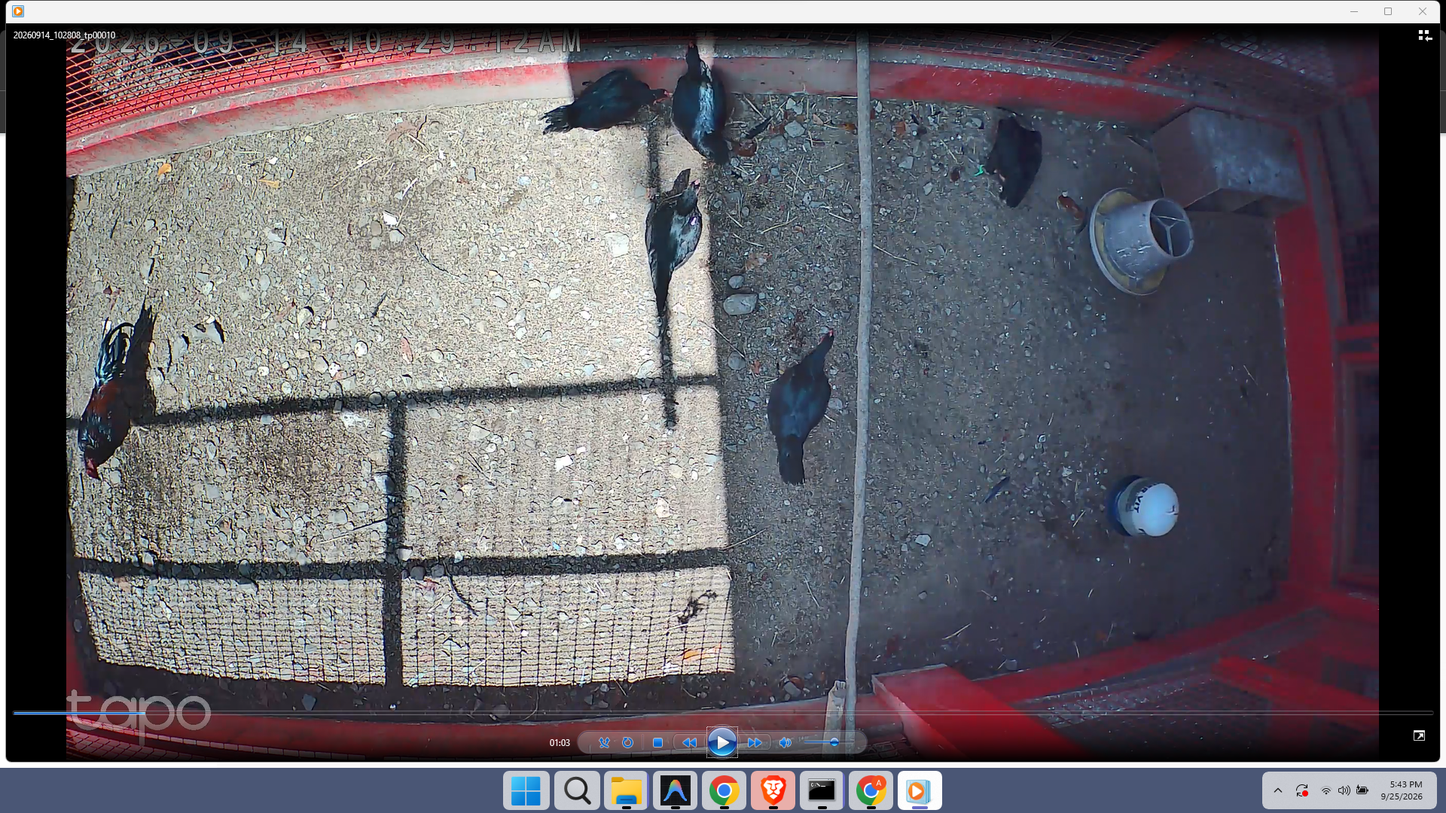Chicken: (764, 321, 840, 487), (534, 66, 673, 134), (645, 173, 706, 321), (668, 34, 729, 166), (968, 117, 1049, 209)
Drinker: (1106, 469, 1182, 539)
Feeder: (1089, 182, 1194, 296)
Rooster: (74, 316, 150, 481)
